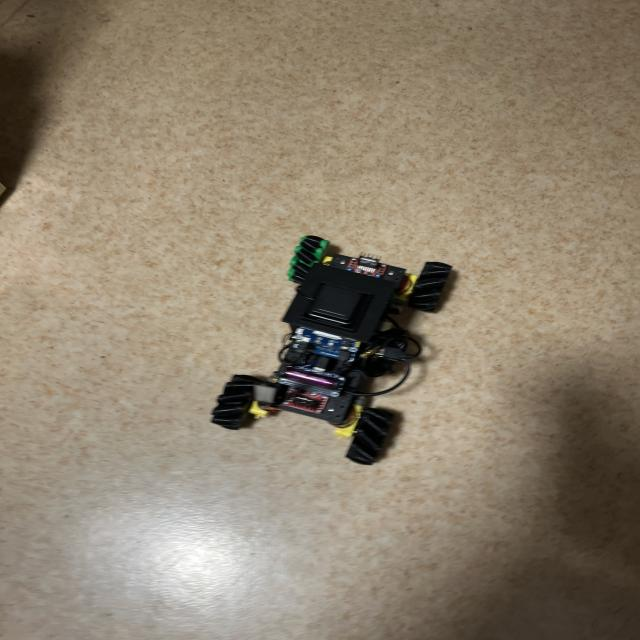robot: (211, 236, 452, 464)
